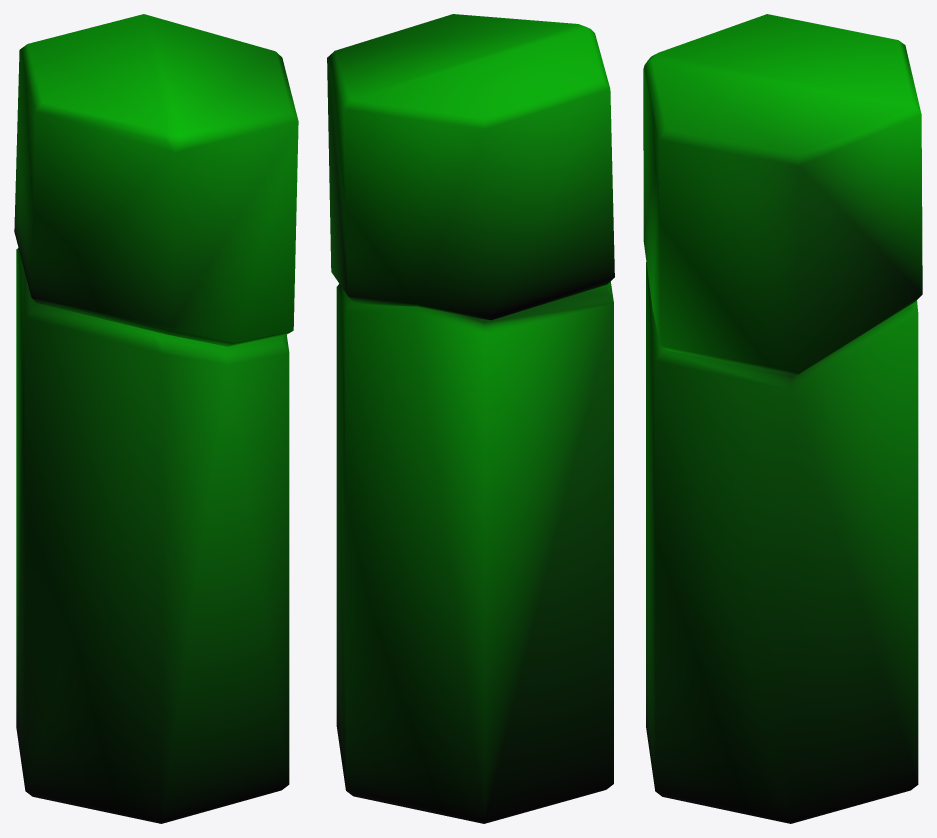
File: SM_RockHexic_Piece12.fbx
3 renders of one model, left to right at view 1: azimuth 30°, elevation 25°; view 2: azimuth 150°, elevation 25°; view 3: azimuth 270°, elevation 25°, orthographic.
Parts seen in each view (by area): view 1: SM_RockHexic_Piece12; view 2: SM_RockHexic_Piece12; view 3: SM_RockHexic_Piece12.
Part boxes in pixels (x1,y1,x2,y2): SM_RockHexic_Piece12: (14,14,298,823); SM_RockHexic_Piece12: (327,14,614,823); SM_RockHexic_Piece12: (643,14,922,823).
Size of the model in its own units: 451 by 406 by 1110.
